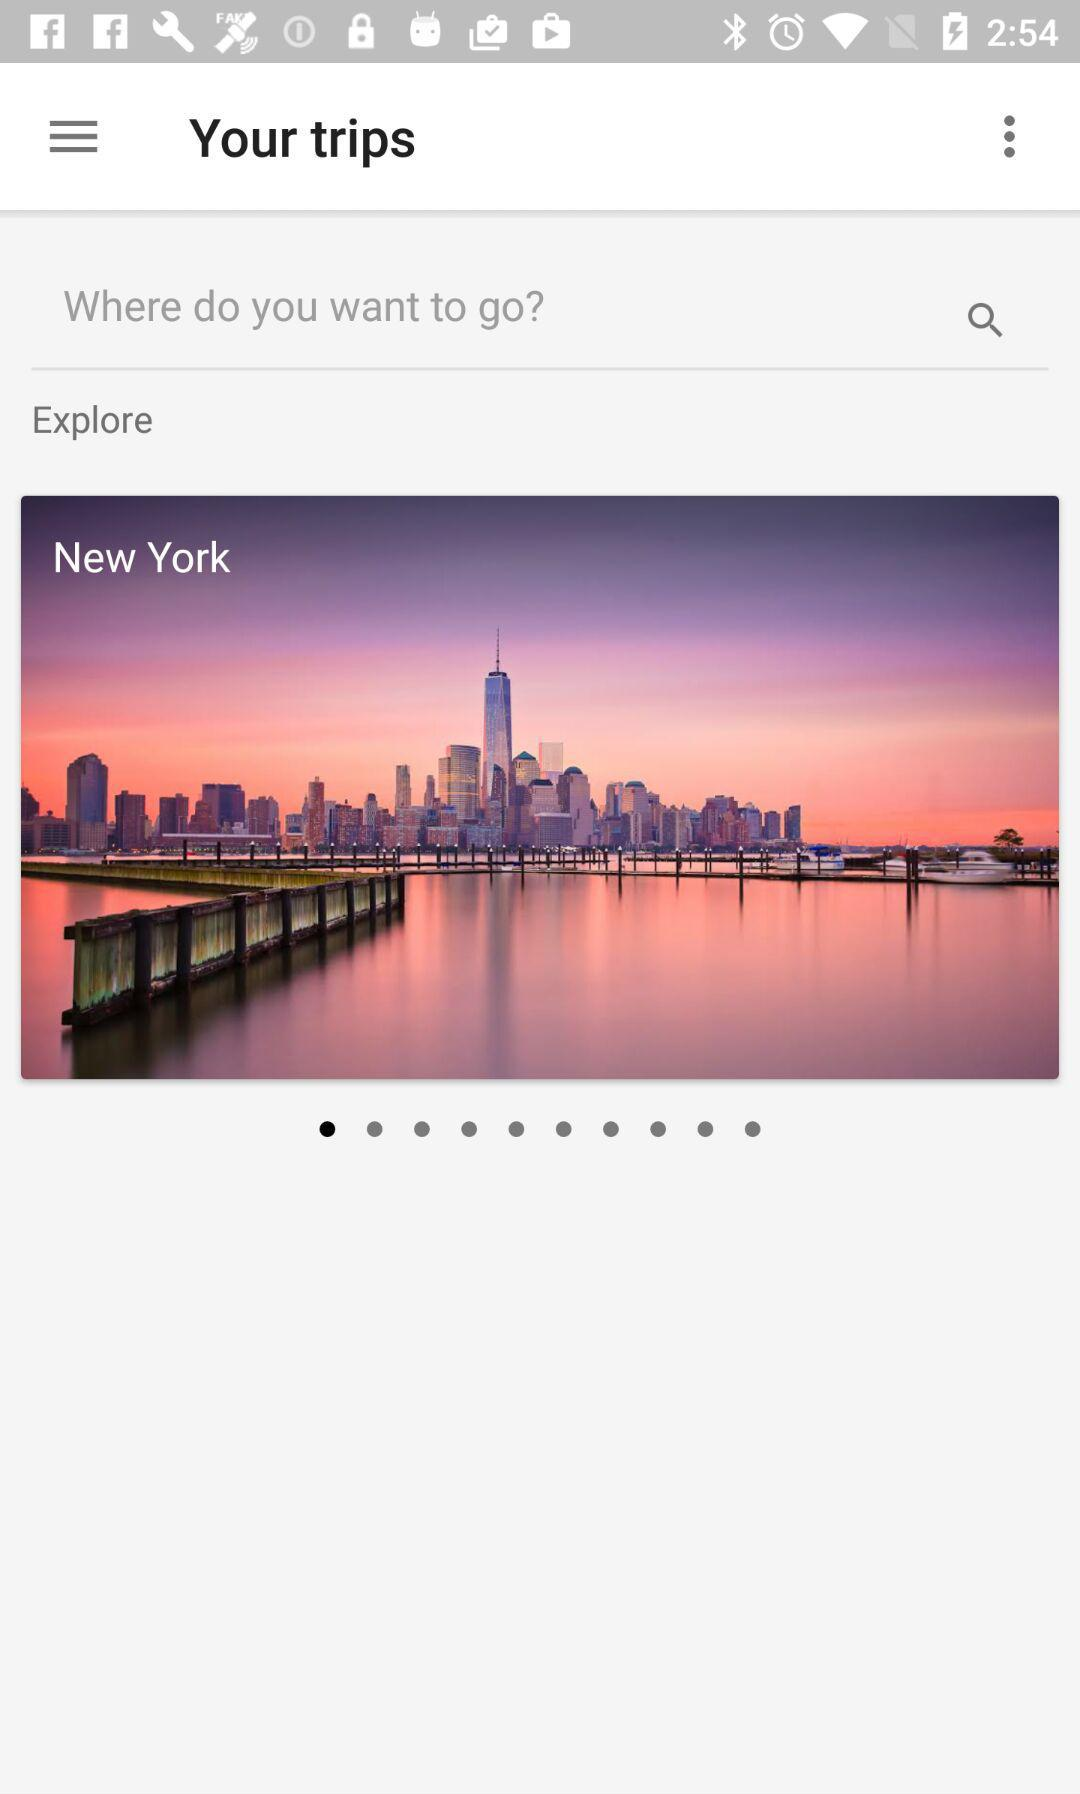EditText: (33, 290, 1048, 372)
Icon: (50, 120, 99, 154), (967, 302, 1004, 340), (1002, 114, 1017, 161)
Image: (20, 496, 1060, 1080)
PageIndicator: (319, 1119, 764, 1140)
Text: (65, 290, 544, 332), (190, 118, 416, 170), (55, 539, 232, 575), (33, 402, 154, 442)
Toolbar: (1, 65, 1080, 211)
UpperTaskBar: (1, 1, 1080, 64)
